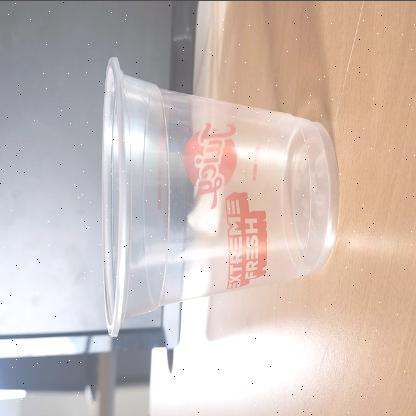Others: (102, 55, 338, 337)
